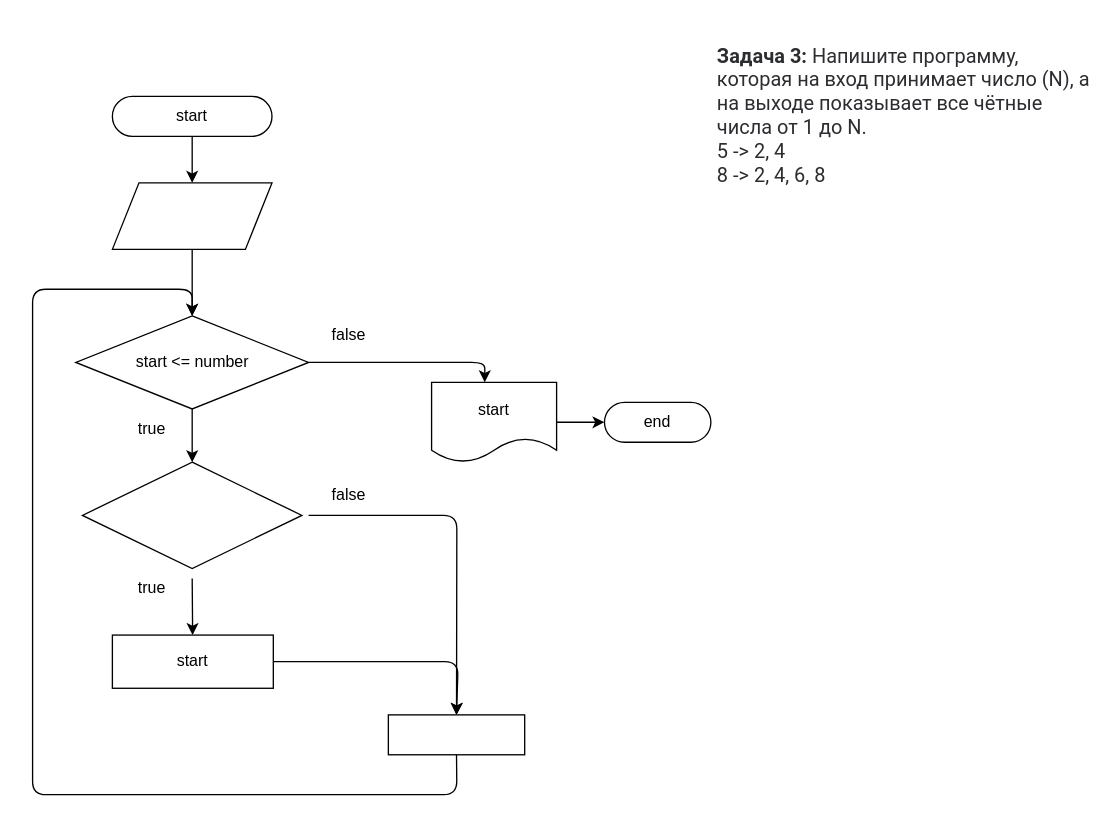
This 1120x829 diagram has some shape labels left out. The centre of each missing label's shape, as x and y in pixels:
number start = 1: (x=191, y=215)
start % 2 == 0: (x=191, y=515)
start++: (x=456, y=734)
